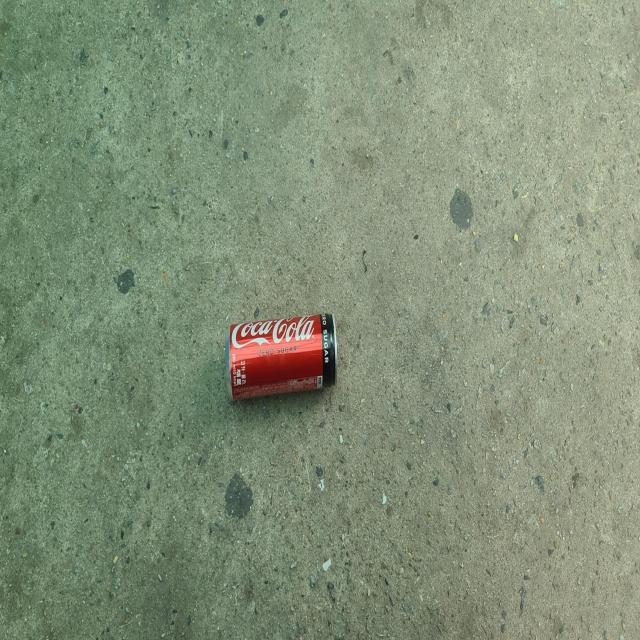can: (226, 313, 338, 399)
